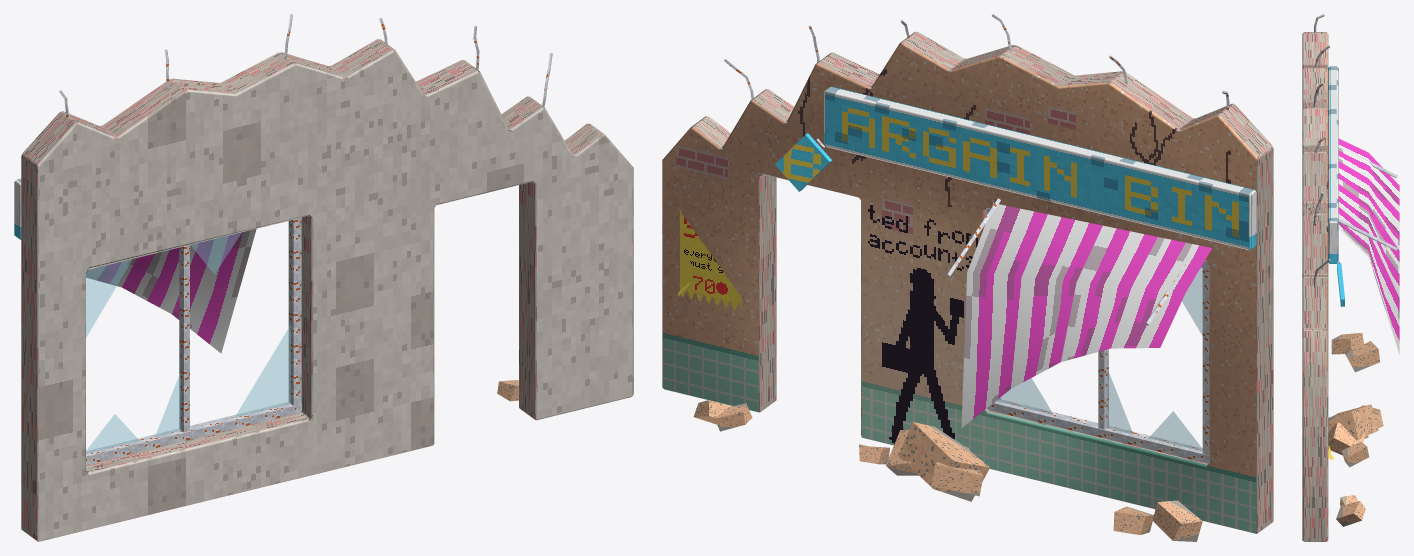
The model's file is s_brokenwall.glb.
3 views of the same model, side by side, from view 1: azimuth 30°, elevation 25°; view 2: azimuth 150°, elevation 25°; view 3: azimuth 270°, elevation 25° (orthographic). The views are drawn at different scales.
Visible parts, largest first — view 1: s_brokenwall_mesh; view 2: s_brokenwall_mesh; view 3: s_brokenwall_mesh.
Part boxes in pixels (<box>): s_brokenwall_mesh: <box>14,14,633,541</box>; s_brokenwall_mesh: <box>662,14,1273,541</box>; s_brokenwall_mesh: <box>1302,14,1399,541</box>.
Size of what is drawn, in the model's own units: 6 by 4.57 by 1.13.
Materials: 4 (3 with a texture image).
